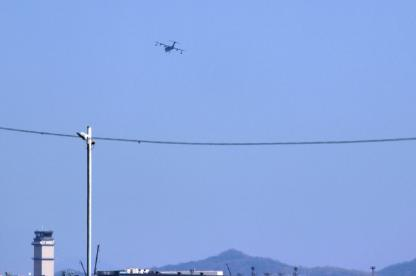Tu95: (152, 38, 186, 53)
